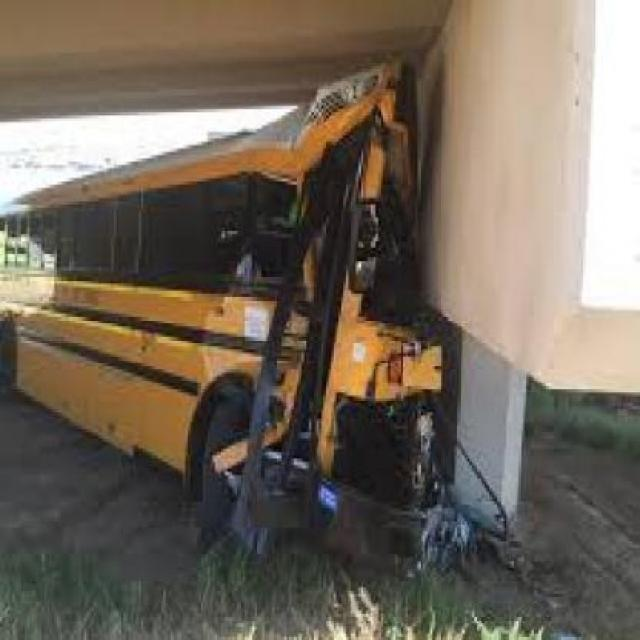accident: (76, 52, 590, 610)
